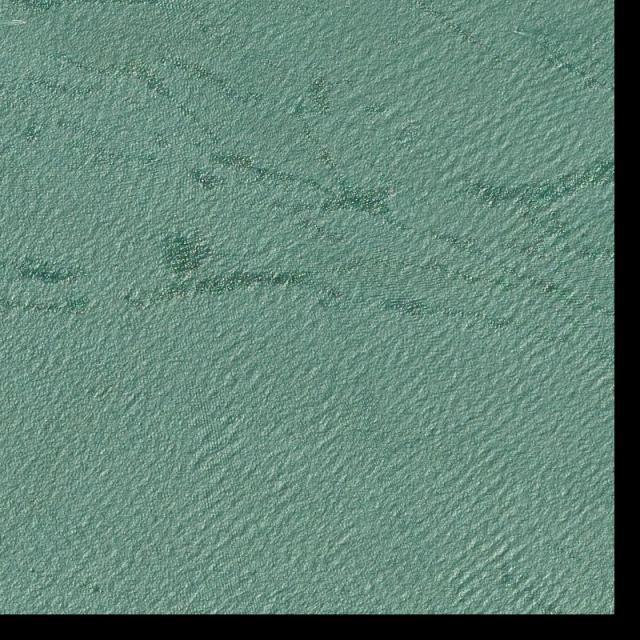ship: (22, 21, 28, 24)
